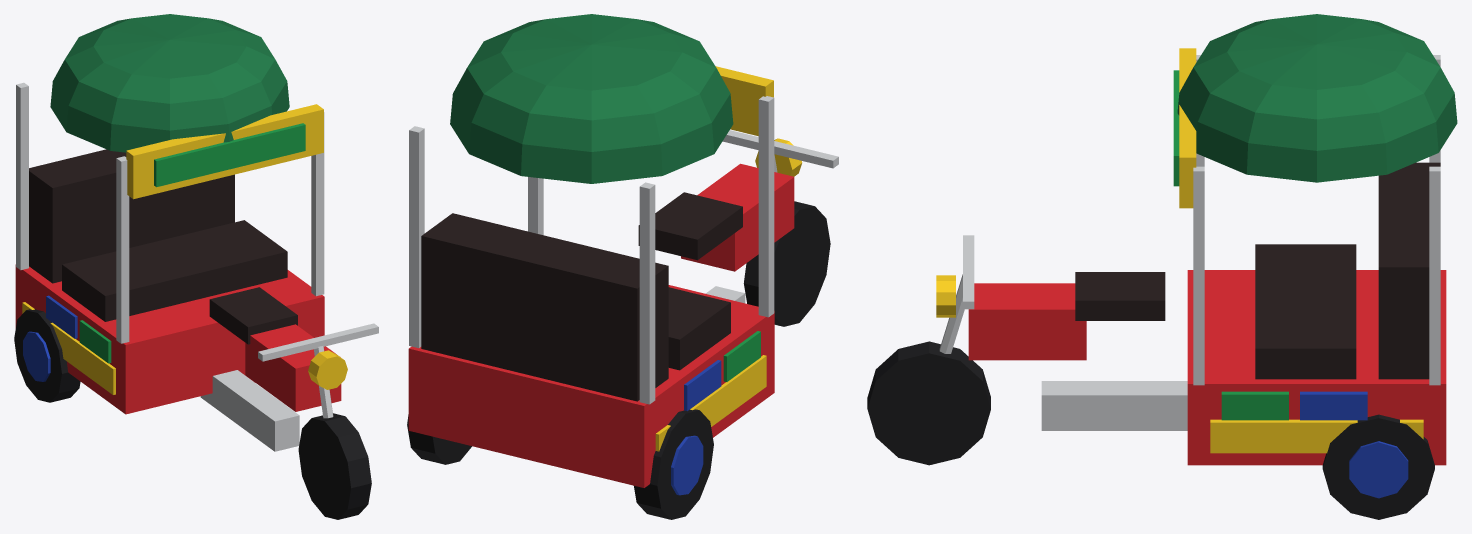
File: chingchi.glb
3 views of the same model, side by side, from view 1: azimuth 30°, elevation 25°; view 2: azimuth 150°, elevation 25°; view 3: azimuth 270°, elevation 25° (orthographic). The views are drawn at different scales.
Parts seen in each view (by area): view 1: Chingchi_Seat, Chingchi_Canopy, Chingchi_Body, Chingchi_Chrome, Chingchi_Tyre, Chingchi_Panel, Chingchi_Panel2, Chingchi_Panel3; view 2: Chingchi_Seat, Chingchi_Canopy, Chingchi_Body, Chingchi_Chrome, Chingchi_Tyre, Chingchi_Panel, Chingchi_Panel3, Chingchi_Panel2; view 3: Chingchi_Canopy, Chingchi_Seat, Chingchi_Body, Chingchi_Tyre, Chingchi_Chrome, Chingchi_Panel, Chingchi_Panel3, Chingchi_Panel2.
Boxes of the visible parts, left/top/right/bottom form: Chingchi_Seat: left=29, top=149, right=297, bottom=344; Chingchi_Canopy: left=50, top=14, right=289, bottom=152; Chingchi_Body: left=15, top=264, right=341, bottom=414; Chingchi_Chrome: left=16, top=82, right=378, bottom=451; Chingchi_Tyre: left=14, top=309, right=371, bottom=519; Chingchi_Panel: left=22, top=104, right=347, bottom=394; Chingchi_Panel2: left=79, top=123, right=305, bottom=363; Chingchi_Panel3: left=23, top=295, right=77, bottom=381; Chingchi_Seat: left=421, top=192, right=742, bottom=401; Chingchi_Canopy: left=450, top=14, right=733, bottom=183; Chingchi_Body: left=408, top=163, right=794, bottom=487; Chingchi_Chrome: left=409, top=96, right=838, bottom=404; Chingchi_Tyre: left=407, top=201, right=830, bottom=519; Chingchi_Panel: left=655, top=66, right=802, bottom=451; Chingchi_Panel3: left=671, top=360, right=721, bottom=495; Chingchi_Panel2: left=723, top=331, right=760, bottom=381; Chingchi_Canopy: left=1177, top=14, right=1457, bottom=182; Chingchi_Seat: left=1075, top=162, right=1440, bottom=379; Chingchi_Body: left=968, top=270, right=1446, bottom=465; Chingchi_Tyre: left=867, top=341, right=1434, bottom=519; Chingchi_Chrome: left=939, top=55, right=1440, bottom=430; Chingchi_Panel: left=936, top=48, right=1423, bottom=453; Chingchi_Panel3: left=1300, top=391, right=1408, bottom=498; Chingchi_Panel2: left=1173, top=70, right=1288, bottom=420.
Size of the model in its own units: 5.22 by 8.15 by 10.5.
